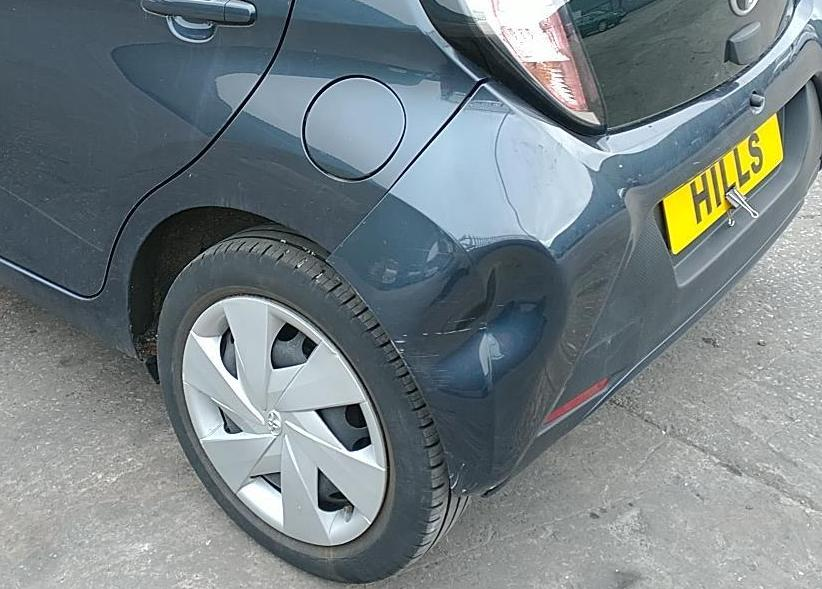Back-bumper: (329, 0, 821, 499)
Back-door: (158, 224, 474, 583), (0, 1, 291, 296)
License-plate: (659, 112, 784, 259)
Quarter-panel: (97, 0, 484, 307)
Rocker-panel: (0, 259, 140, 357)
Tail-light: (416, 0, 607, 137)
Trunk: (568, 1, 797, 132)
